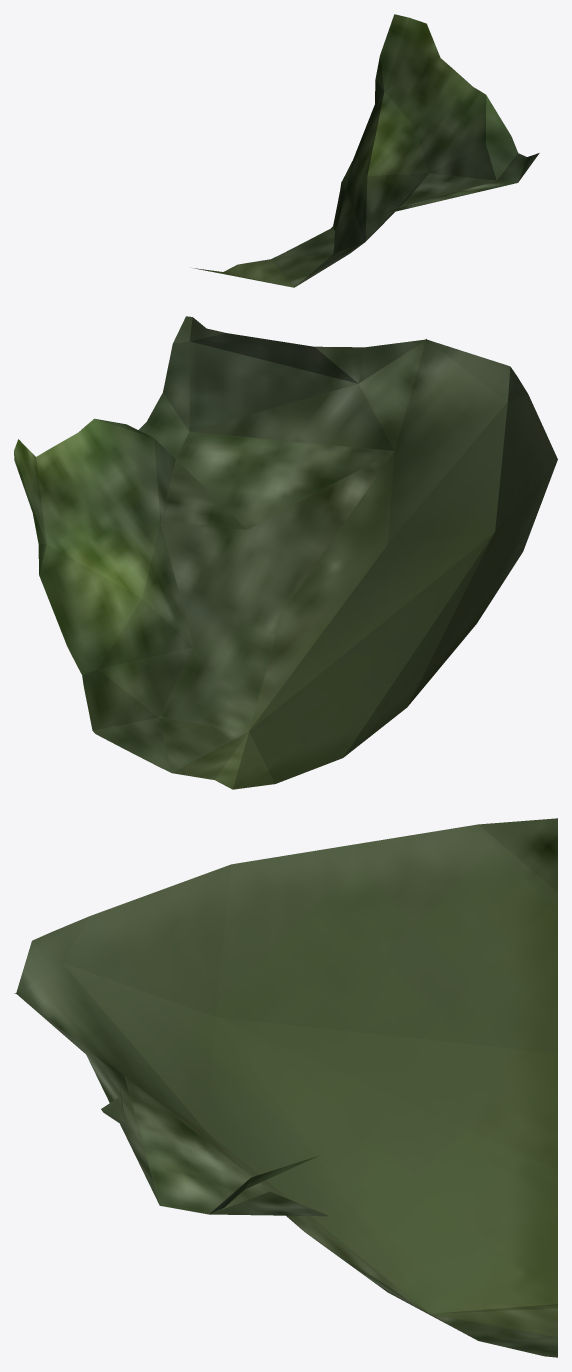
3 views of the same model, one above another, from view 1: azimuth 30°, elevation 25°; view 2: azimuth 150°, elevation 25°; view 3: azimuth 270°, elevation 25° (orthographic). The views are drawn at different scales.
Size of the model in its own units: 3.05 by 1.6 by 2.39.
Materials: 1 (1 with a texture image).
